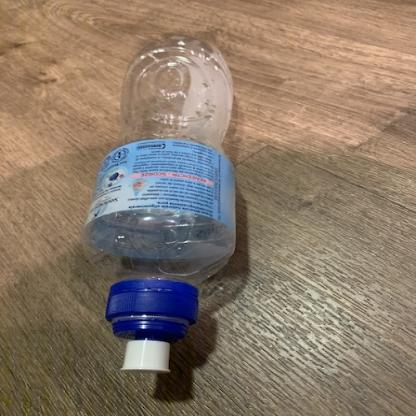trash: (79, 33, 237, 381)
